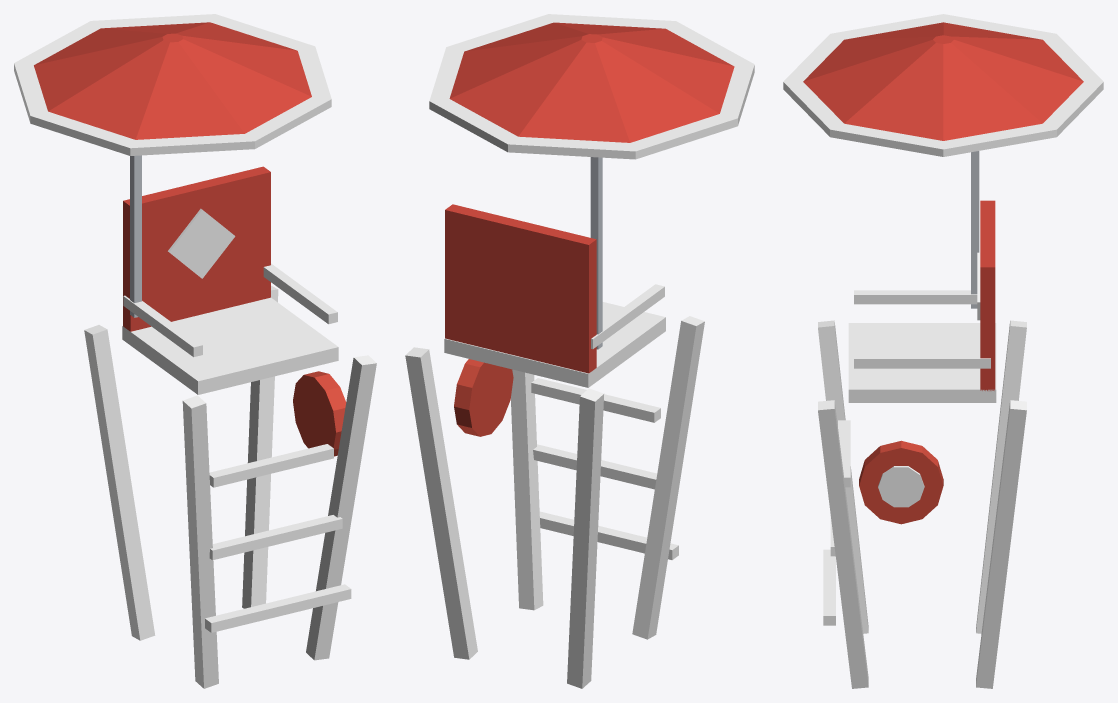
File: CatCafe_Decor_LifeguardChair.glb
3 renders of one model, left to right at view 1: azimuth 30°, elevation 25°; view 2: azimuth 150°, elevation 25°; view 3: azimuth 270°, elevation 25°, orthographic. The views are drawn at different scales.
Visible parts, largest first — view 1: CatCafe_Decor_LifeguardChair; view 2: CatCafe_Decor_LifeguardChair; view 3: CatCafe_Decor_LifeguardChair.
Part boxes in pixels (<box>): CatCafe_Decor_LifeguardChair: <box>14,14,376,688</box>; CatCafe_Decor_LifeguardChair: <box>405,14,754,688</box>; CatCafe_Decor_LifeguardChair: <box>783,14,1103,688</box>.
Bounding box in the file's own units: 3.04 × 6.25 × 3.04.
Materials: 1 (1 with a texture image).
